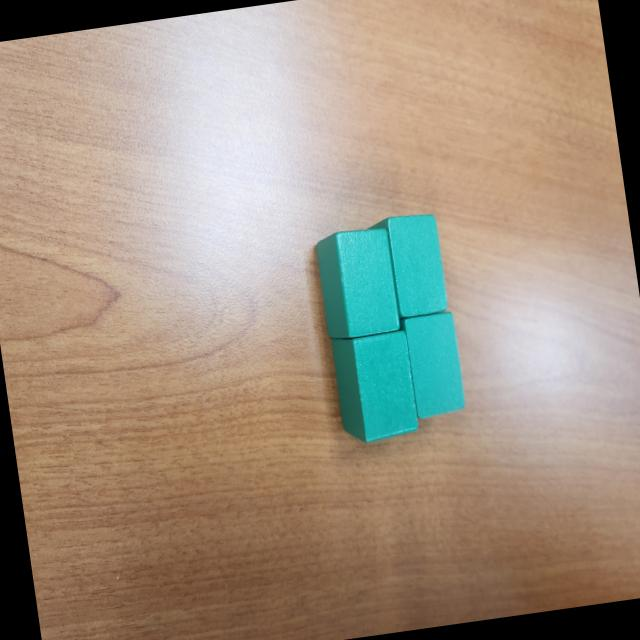green: (329, 328, 422, 451), (314, 222, 402, 342), (364, 209, 450, 323), (399, 310, 468, 419)
